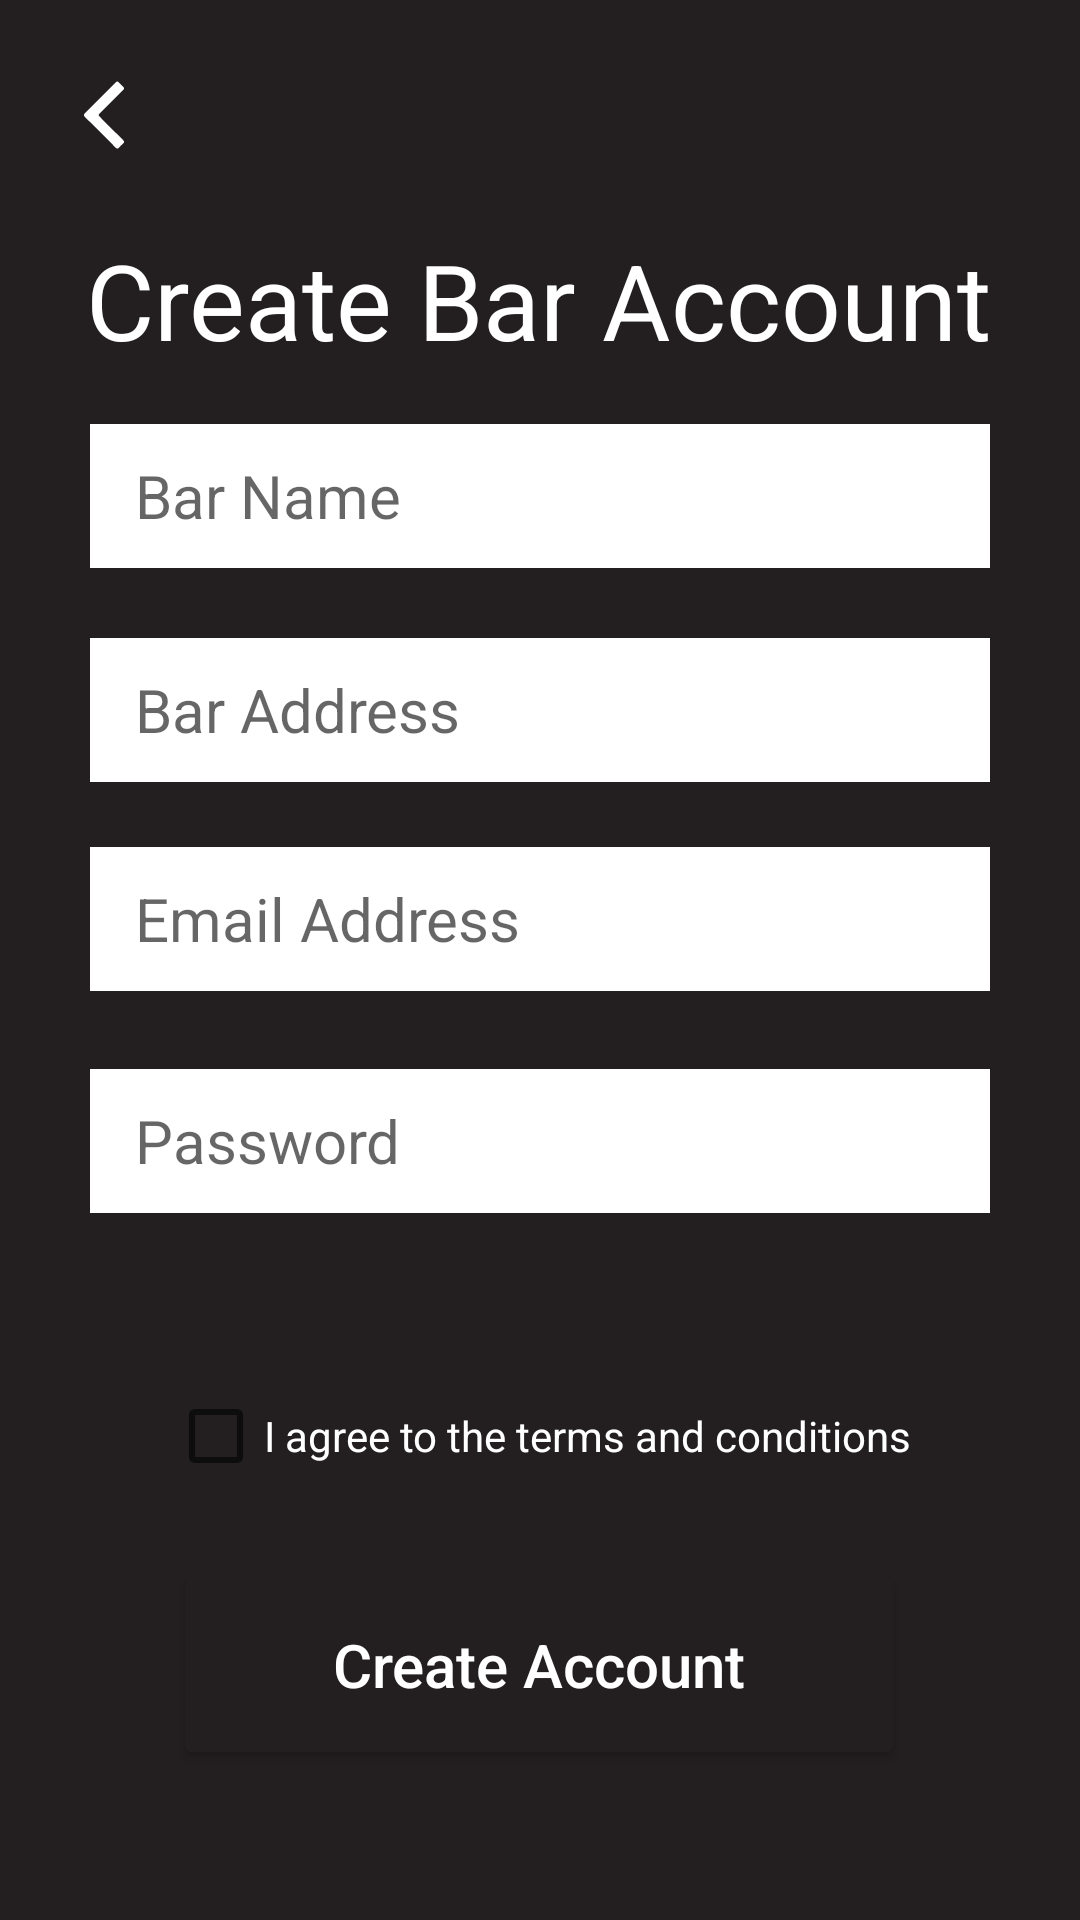

Icons on this 1080×1920 Android screen, each with its box as detection(x1, y1, x2, y2):
back: detection(84, 81, 124, 149)
